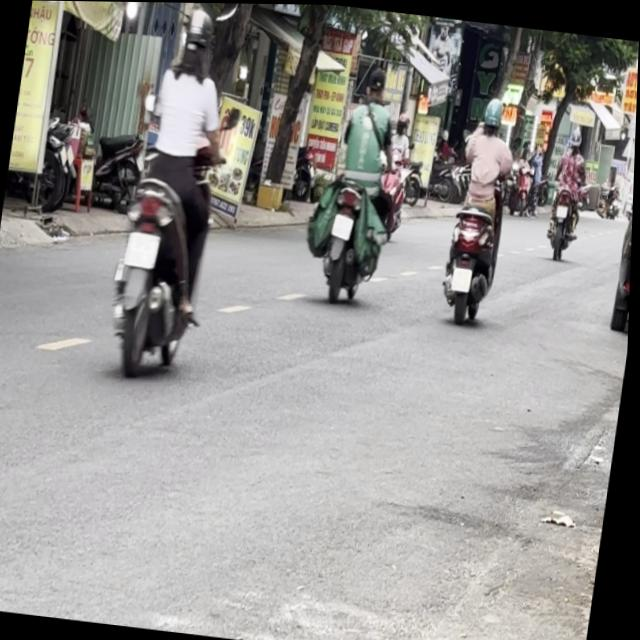helmet: (175, 4, 217, 79), (481, 94, 506, 132)
licenseplate: (102, 1, 244, 383), (305, 58, 409, 305), (435, 89, 524, 325)
motorcyclist: (363, 64, 388, 102)
nohelmet: (125, 230, 159, 267), (331, 210, 356, 240), (453, 265, 474, 291)
